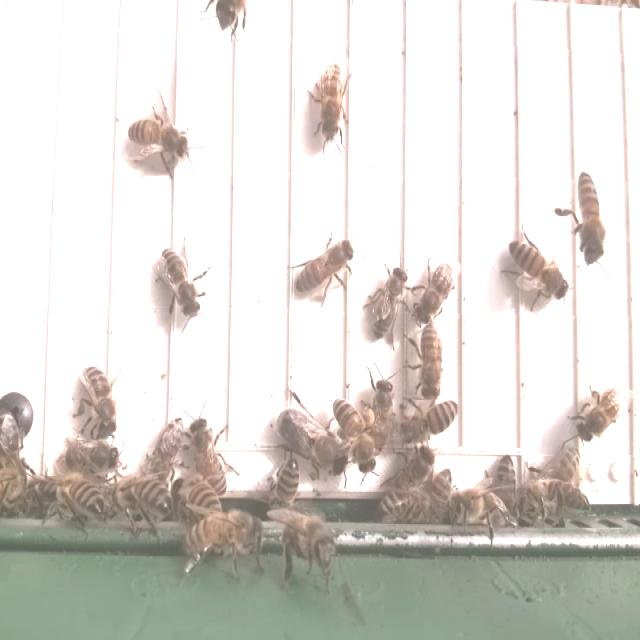Drone: (273, 406, 349, 478)
Worker: (504, 238, 572, 304), (292, 231, 357, 299), (158, 243, 206, 322), (570, 169, 608, 267), (399, 394, 464, 449), (335, 396, 378, 479), (123, 114, 195, 162), (570, 380, 623, 444), (368, 263, 411, 340), (411, 255, 456, 328), (187, 417, 227, 495), (116, 472, 177, 522), (79, 362, 116, 442), (317, 58, 349, 145), (51, 477, 109, 524), (415, 318, 446, 400), (61, 436, 121, 478), (369, 373, 396, 452), (268, 455, 300, 521)
